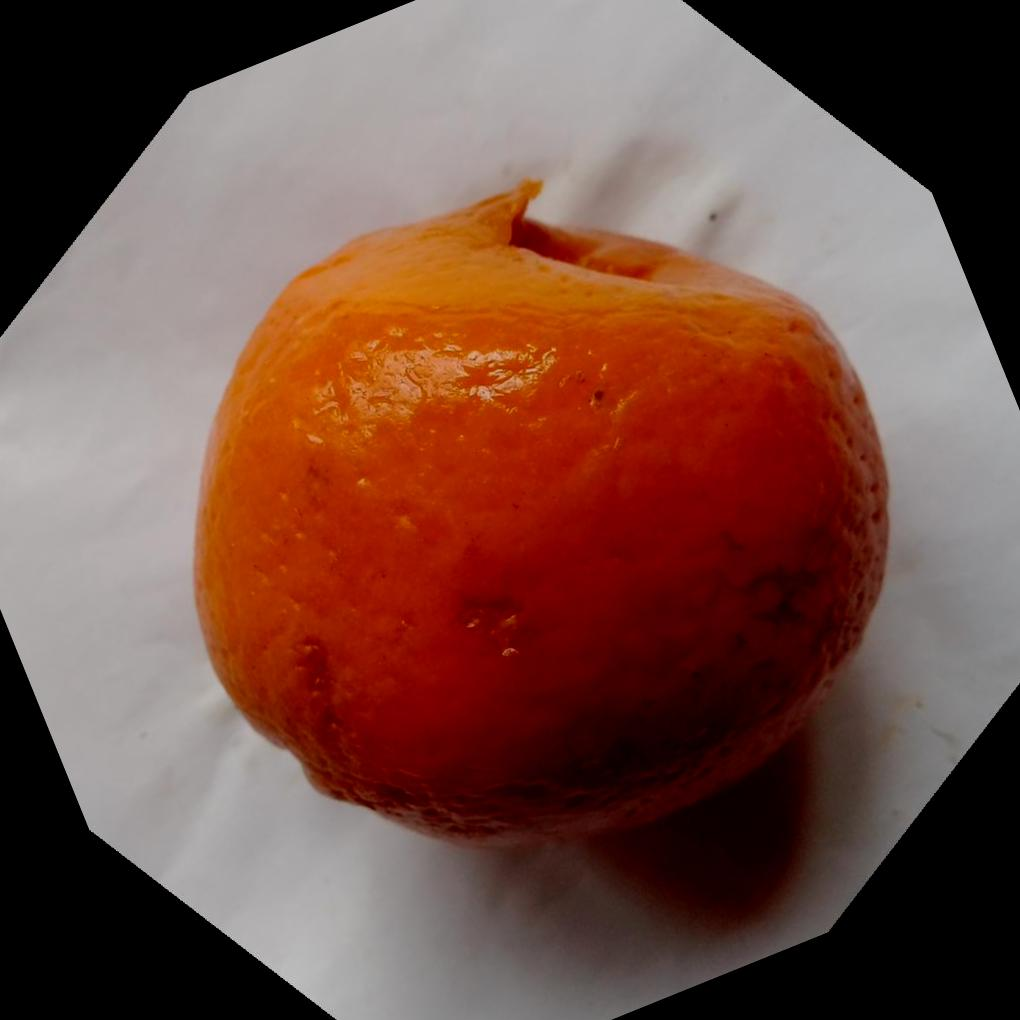FreshOrange: (192, 175, 895, 850)
